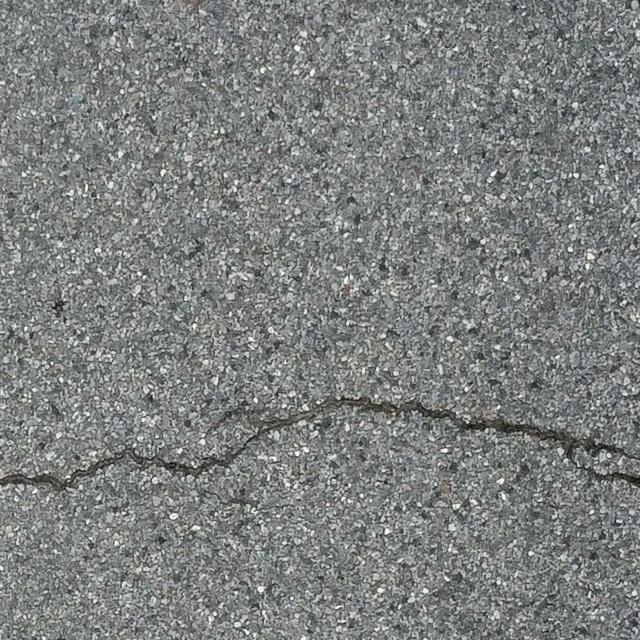TransverseCrack: (1, 395, 640, 493)
